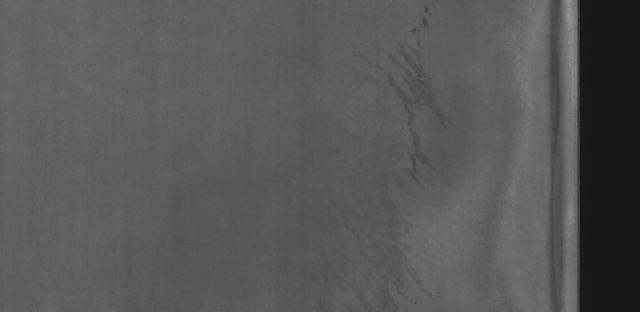water_spot: (332, 9, 458, 289)
